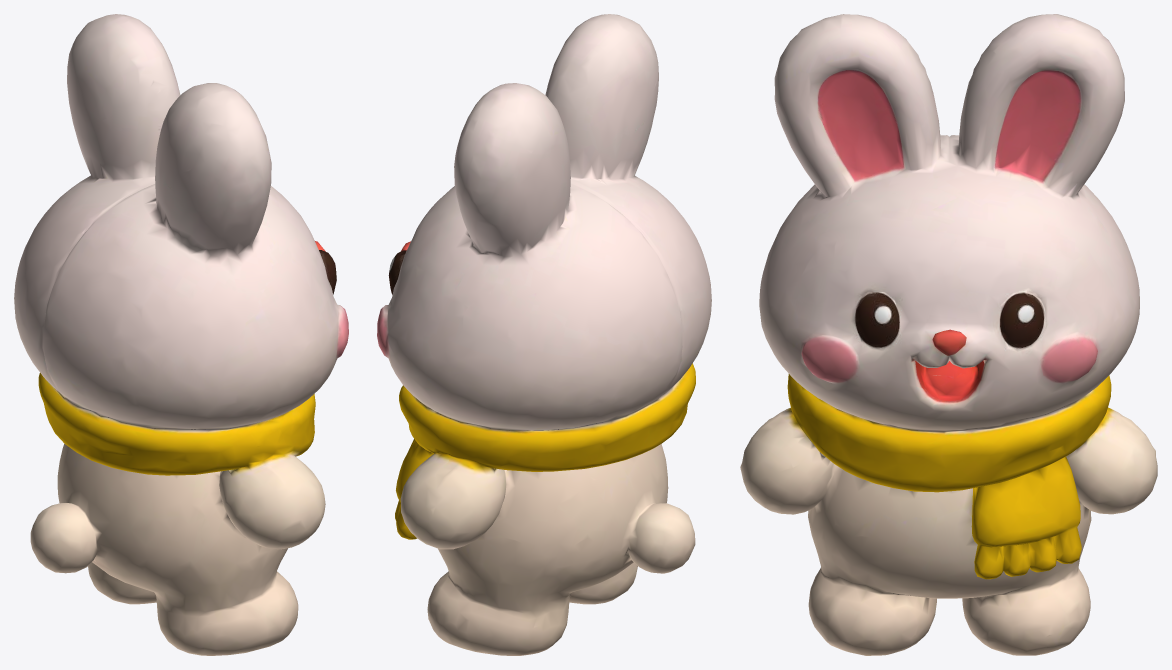
File: bunny.glb
3 views of the same model, side by side, from view 1: azimuth 30°, elevation 25°; view 2: azimuth 150°, elevation 25°; view 3: azimuth 270°, elevation 25° (orthographic). The views are drawn at different scales.
Visible parts, largest first — view 1: tripo_node_62fa5868-5dd4-47df-a584-7bac10c3c405; view 2: tripo_node_62fa5868-5dd4-47df-a584-7bac10c3c405; view 3: tripo_node_62fa5868-5dd4-47df-a584-7bac10c3c405.
Boxes of the visible parts, x1,y1,x2,y2 form: tripo_node_62fa5868-5dd4-47df-a584-7bac10c3c405: (14, 14, 348, 655); tripo_node_62fa5868-5dd4-47df-a584-7bac10c3c405: (377, 14, 711, 655); tripo_node_62fa5868-5dd4-47df-a584-7bac10c3c405: (740, 14, 1157, 655).
Size of the model in its own units: 0.5301 by 1 by 0.6251.
Materials: 1 (1 with a texture image).
